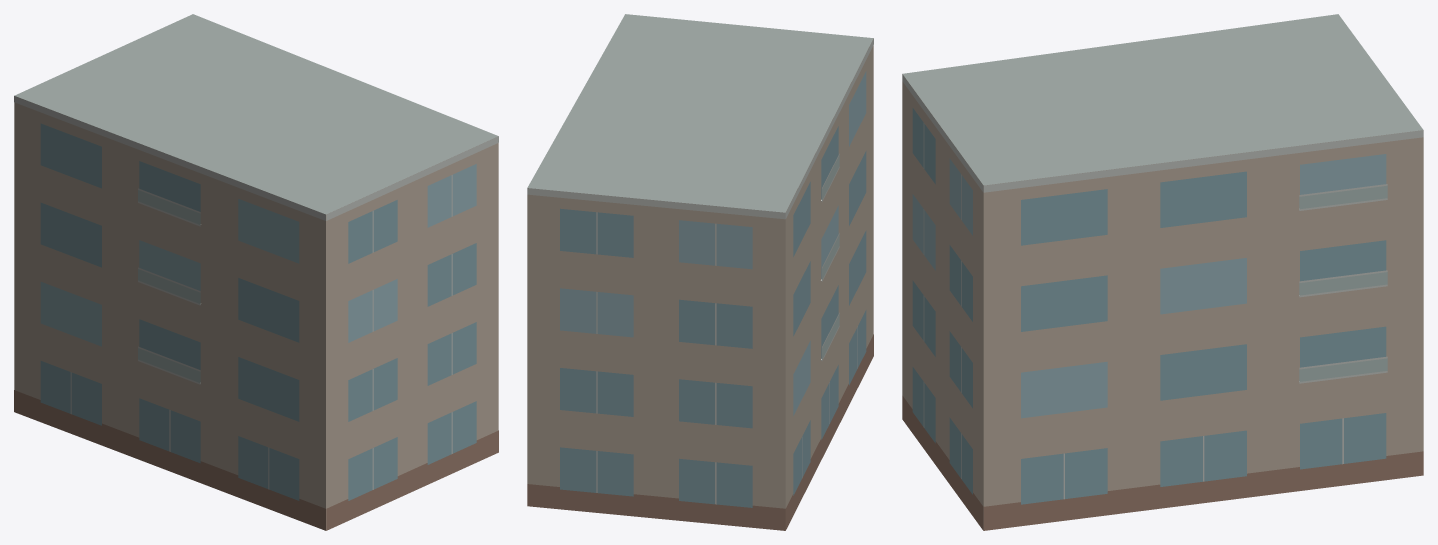
Rendered from survey-upis-33004060.glb.
3 views of the same model, side by side, from view 1: azimuth 30°, elevation 25°; view 2: azimuth 150°, elevation 25°; view 3: azimuth 270°, elevation 25° (orthographic). The views are drawn at different scales.
Parts seen in each view (by area): view 1: survey-upis-33004060.tmp; view 2: survey-upis-33004060.tmp; view 3: survey-upis-33004060.tmp.
Boxes of the visible parts, x1,y1,x2,y2 form: survey-upis-33004060.tmp: (14,14,498,530); survey-upis-33004060.tmp: (527,14,873,530); survey-upis-33004060.tmp: (902,14,1423,530).
Bounding box in the file's own units: 12.47 × 11.7 × 16.02.
